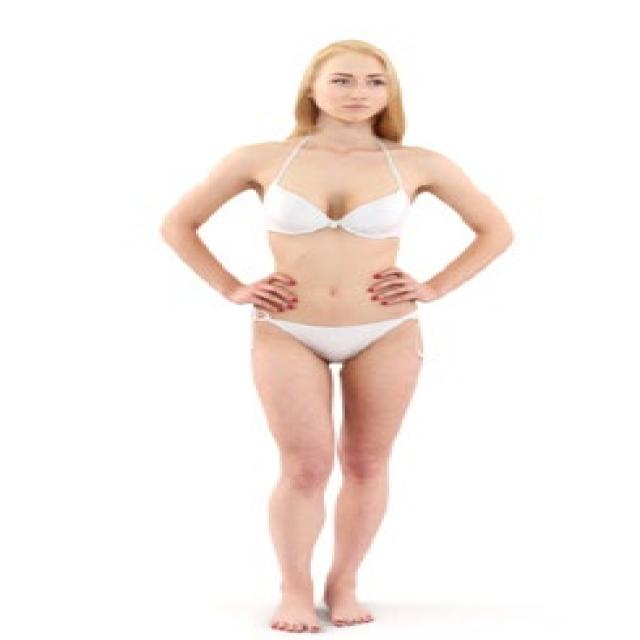standing: (153, 38, 510, 639)
